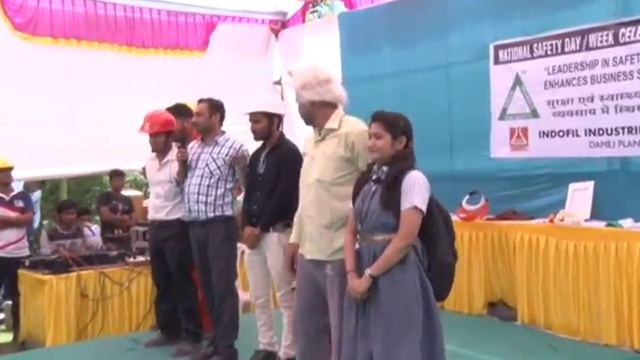helmet: (237, 89, 288, 119), (136, 109, 179, 137), (0, 155, 15, 171)
helmet_off: (357, 110, 416, 176), (288, 61, 344, 120), (191, 98, 226, 140), (166, 102, 201, 143), (55, 198, 81, 227), (103, 170, 122, 196), (24, 178, 45, 195)
helmet_on: (136, 109, 179, 167), (237, 96, 285, 146), (0, 156, 16, 196)
person: (342, 106, 458, 360), (283, 59, 367, 349), (180, 98, 249, 357), (233, 90, 299, 353), (137, 107, 192, 359), (0, 156, 34, 354), (39, 198, 101, 262), (96, 169, 134, 254), (10, 178, 46, 230)
